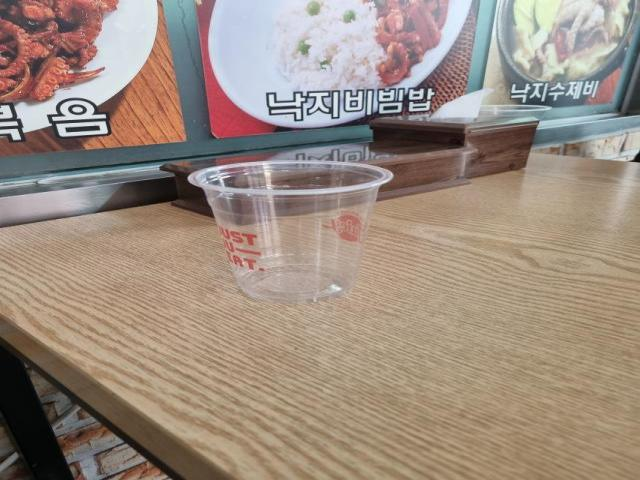cup: (183, 156, 399, 306)
